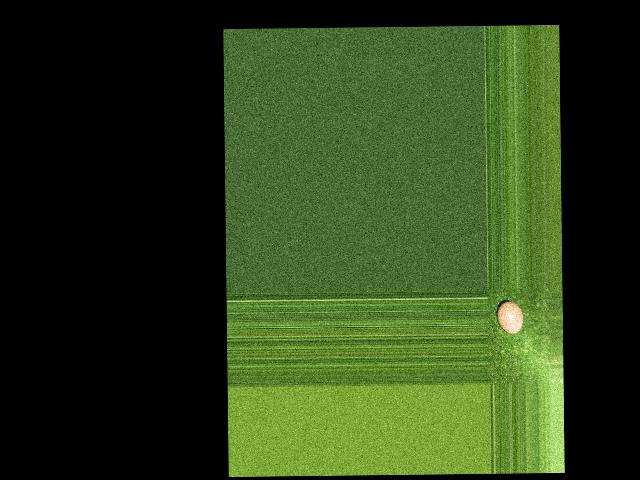egg: (496, 301, 522, 334)
